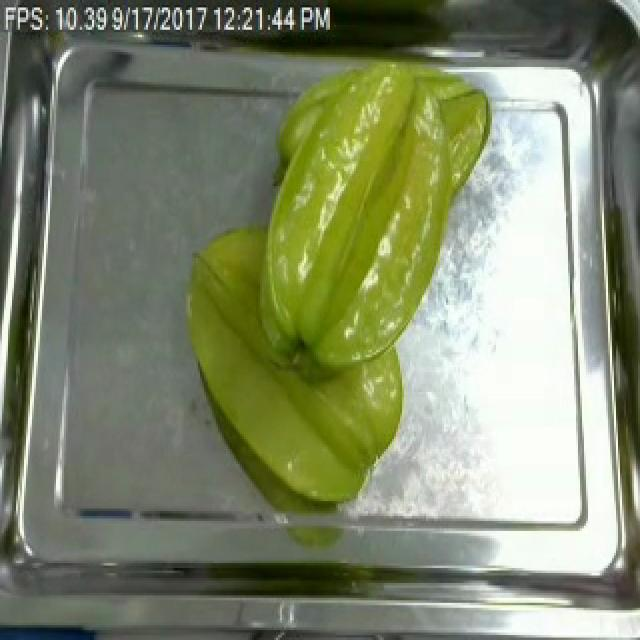fruit: (248, 45, 504, 382), (174, 246, 416, 516)
